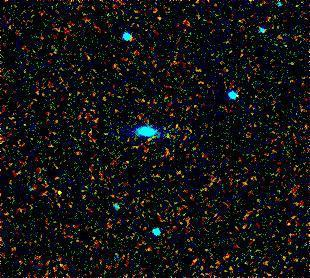star: (44, 183, 74, 213)
